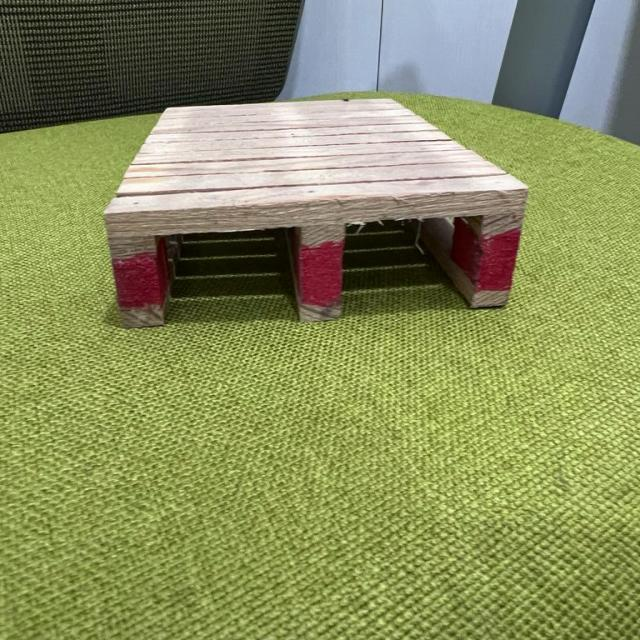block: (455, 188, 524, 311), (292, 199, 348, 324), (105, 211, 166, 325)
front: (104, 180, 526, 319)
